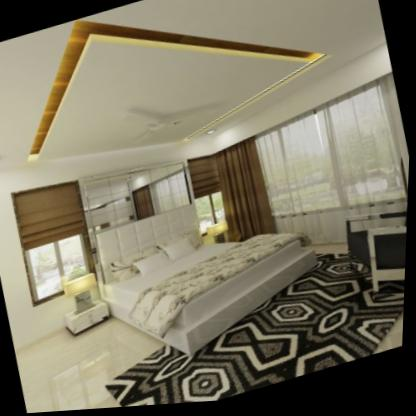Gypsum Board: (0, 0, 397, 206)
